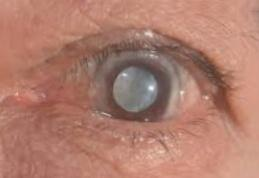eye: (103, 56, 174, 123)
